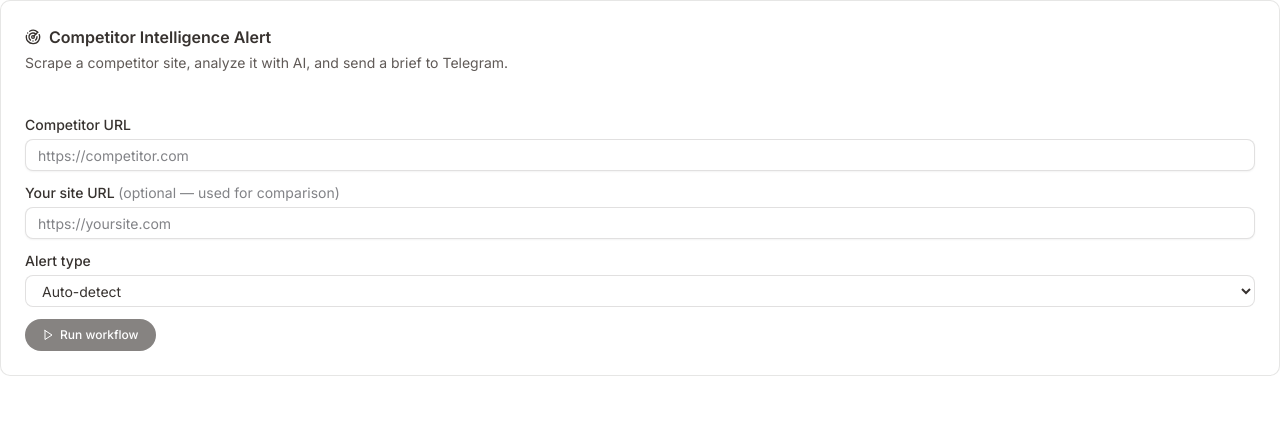
Test case: CompetitorAlertPanel › shows an error message when the API returns an error
This screenshot has width=1280, height=439.
Type "https://rival.com" into the field with test id "competitor-url-input". click: (640, 155)
box: x1=25 y1=139 x2=1255 y2=171
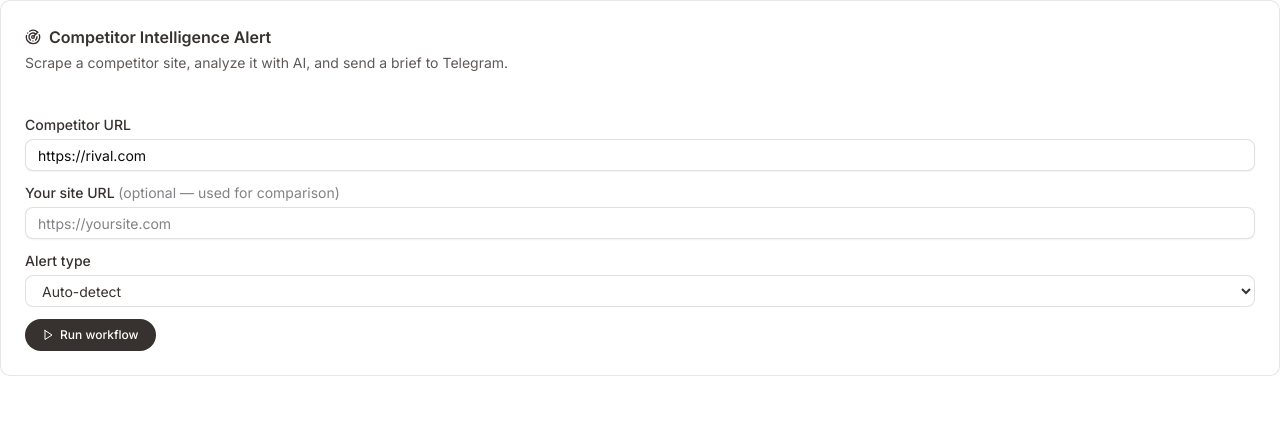
Click the button with test id "run-workflow-button". click: (90, 335)
box: x1=25 y1=319 x2=156 y2=351
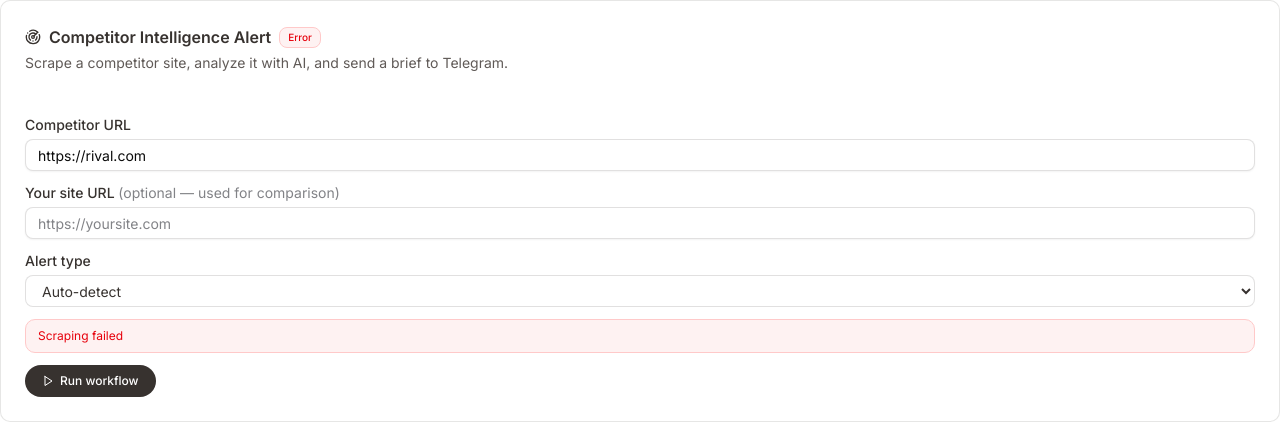
Check: the text "Scraping failed" is shown, box x1=25 y1=319 x2=1255 y2=353
